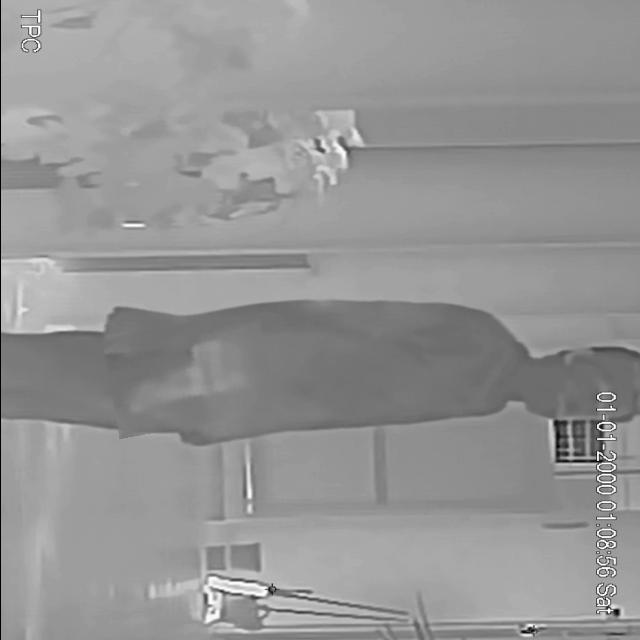Weapon: (105, 318, 272, 432)
